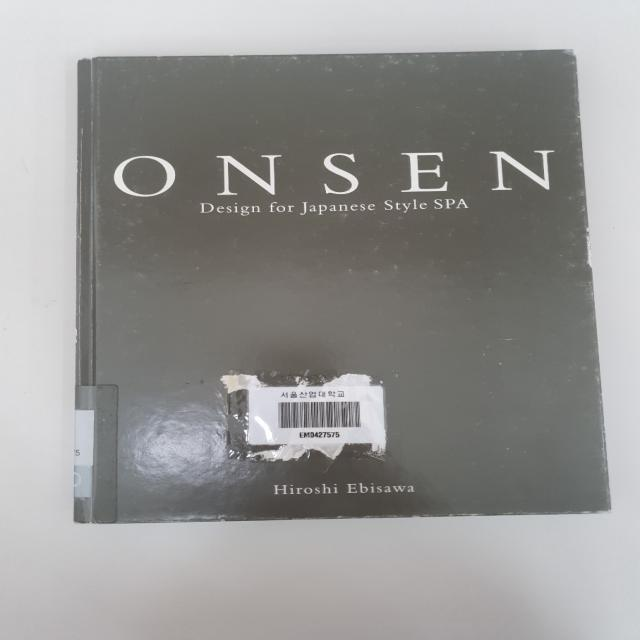Wornout: (499, 497, 615, 519), (360, 503, 486, 523), (591, 367, 611, 474), (140, 515, 243, 526), (147, 50, 250, 61), (581, 216, 598, 269), (552, 42, 582, 69), (73, 51, 108, 67), (71, 324, 85, 356)
